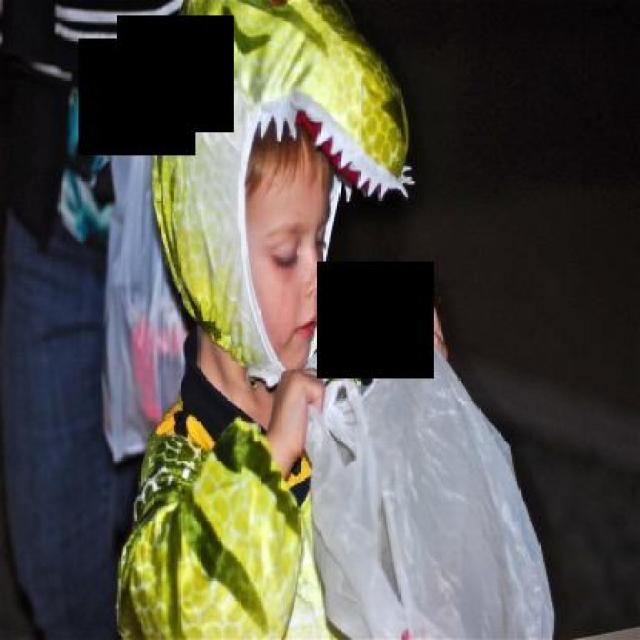plastic bag: (298, 292, 557, 638)
